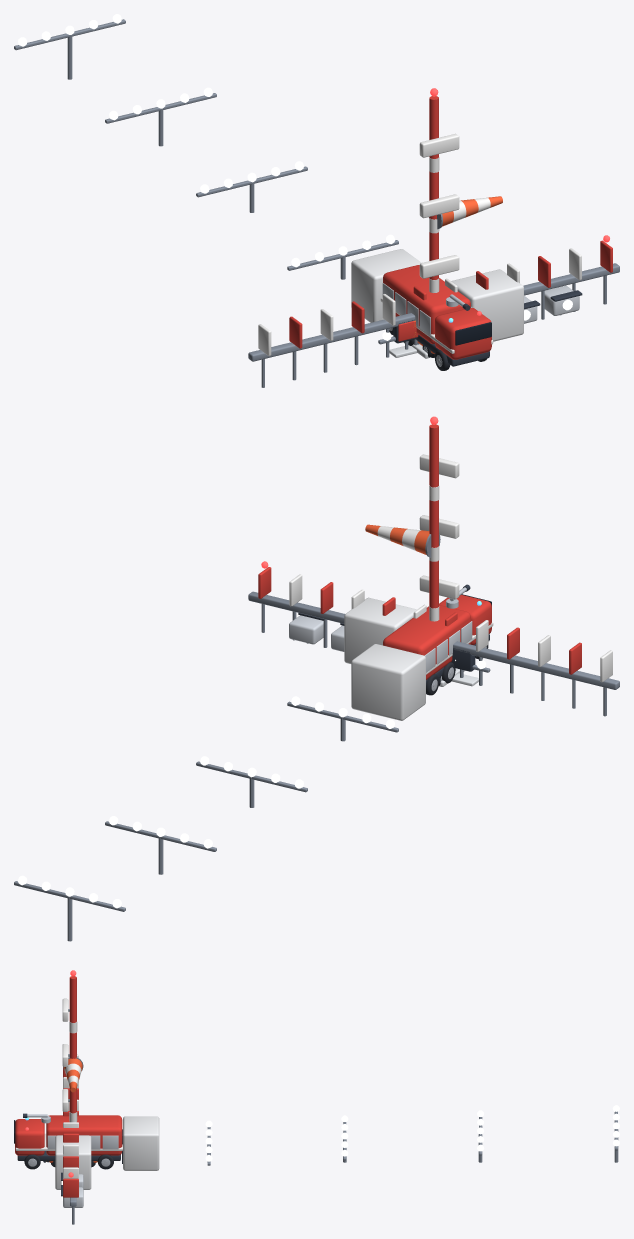
File: airport_props.glb
3 views of the same model, one above another, from view 1: azimuth 30°, elevation 25°; view 2: azimuth 150°, elevation 25°; view 3: azimuth 270°, elevation 25° (orthographic). The views are drawn at different scales.
Visible parts, largest first — view 1: localizer_body, glideslope_body, fire_truck_body, approach_lights_body, papi_body, windsock_sock, sign_runway_body; view 2: localizer_body, glideslope_body, fire_truck_body, approach_lights_body, papi_body, windsock_sock; view 3: fire_truck_body, localizer_body, glideslope_body, windsock_sock, approach_lights_body.
Part boxes in pixels (x1,y1,x2,y2): localizer_body: [248, 240, 619, 387]; glideslope_body: [419, 96, 523, 341]; fire_truck_body: [380, 265, 493, 366]; approach_lights_body: [14, 19, 398, 344]; papi_body: [524, 285, 582, 323]; windsock_sock: [429, 196, 502, 229]; sign_runway_body: [389, 319, 418, 357]; localizer_body: [248, 567, 619, 720]; glideslope_body: [344, 424, 459, 663]; fire_truck_body: [383, 594, 493, 684]; approach_lights_body: [14, 665, 490, 941]; papi_body: [289, 613, 344, 651]; windsock_sock: [365, 524, 440, 557]; fire_truck_body: [14, 1115, 122, 1160]; localizer_body: [63, 1054, 159, 1224]; glideslope_body: [55, 976, 91, 1189]; windsock_sock: [63, 1057, 83, 1092]; approach_lights_body: [207, 1111, 618, 1165].
Bounding box in the file's own units: 14 × 9.34 × 26.78.
